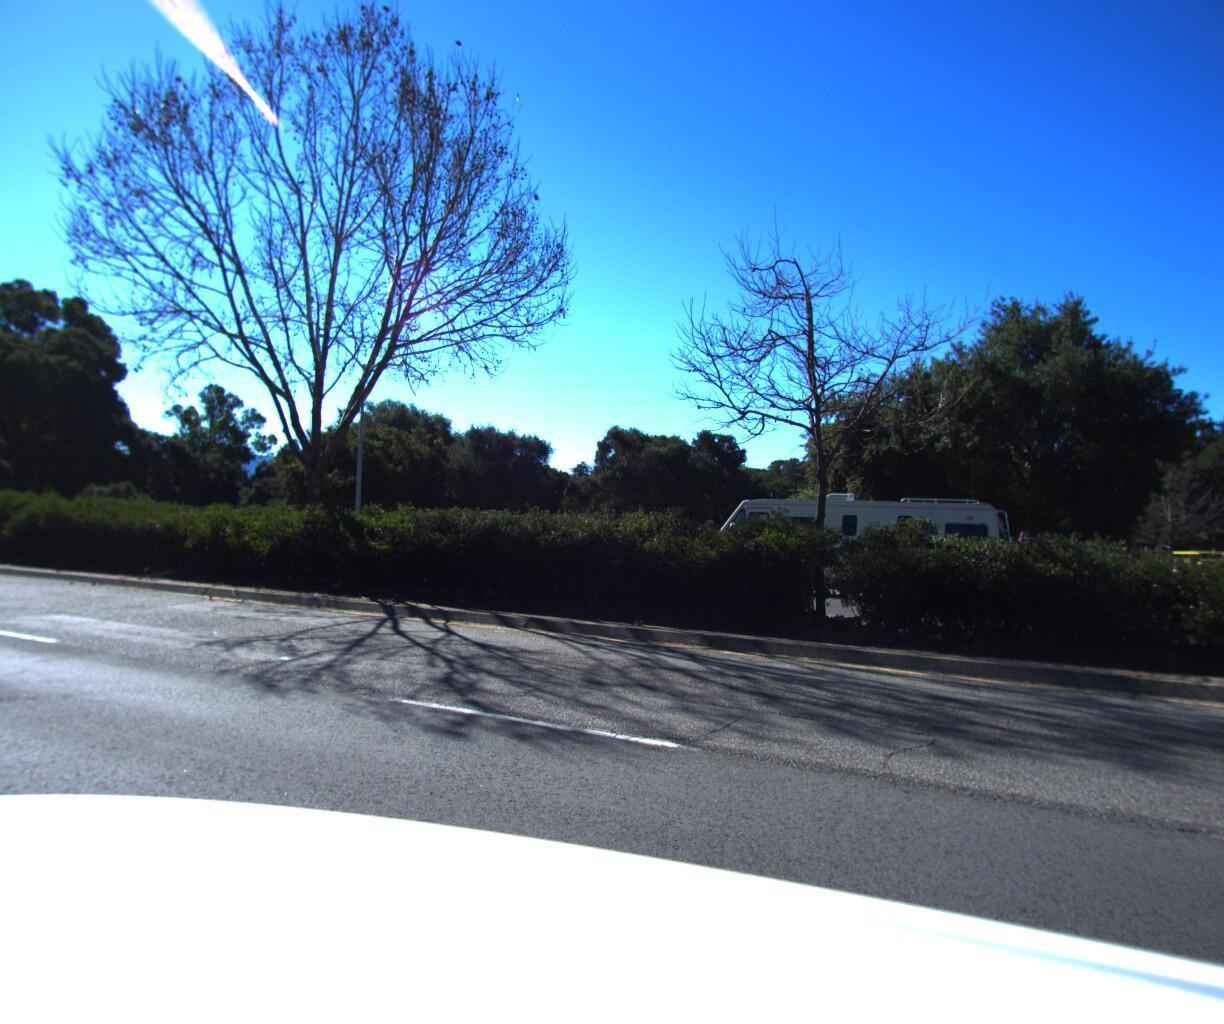other_vehicle: (694, 483, 1016, 578)
